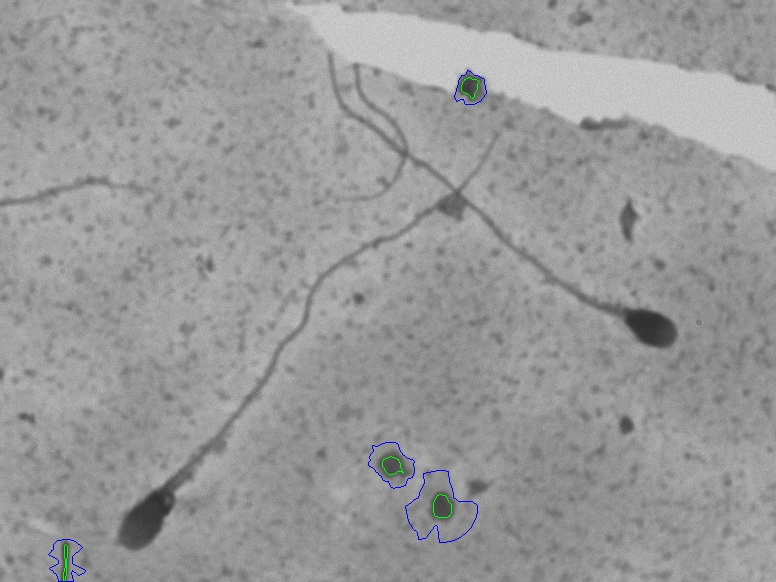Abnormal: (111, 124, 510, 564)
Normal: (310, 60, 692, 372)
